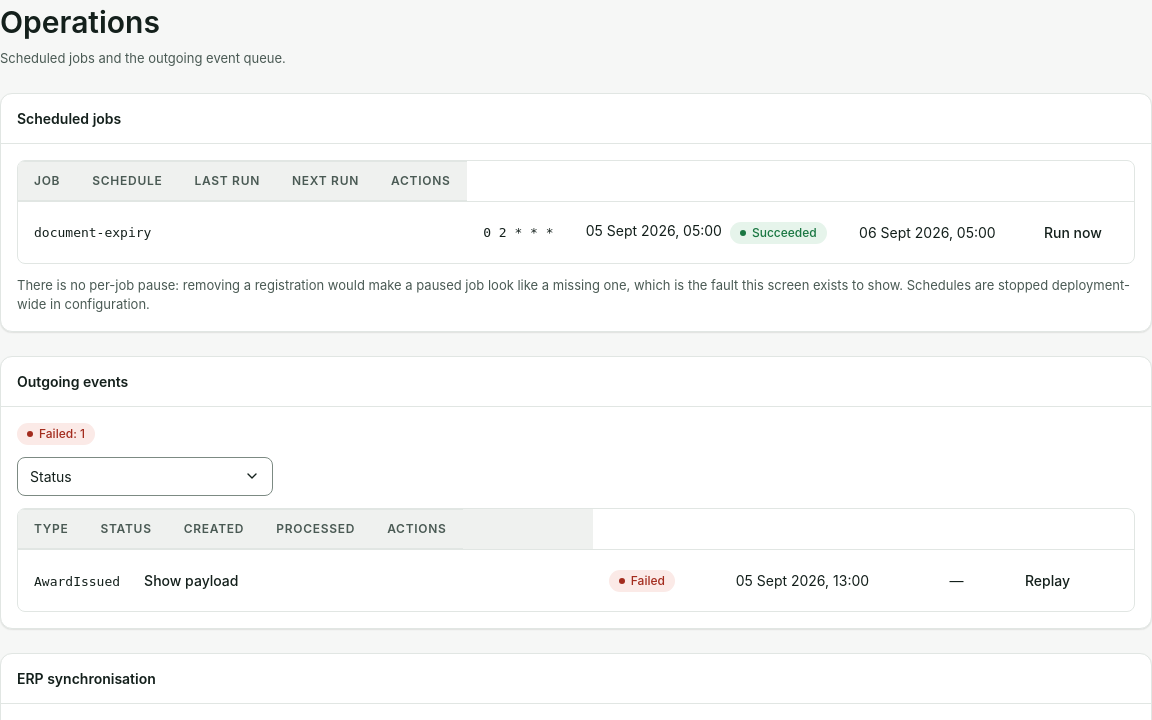
Test: OperationsPage (SCR-721) › confirms a queued replay
Click the button "Replay": (1048, 580) [1009,562,1086,598]
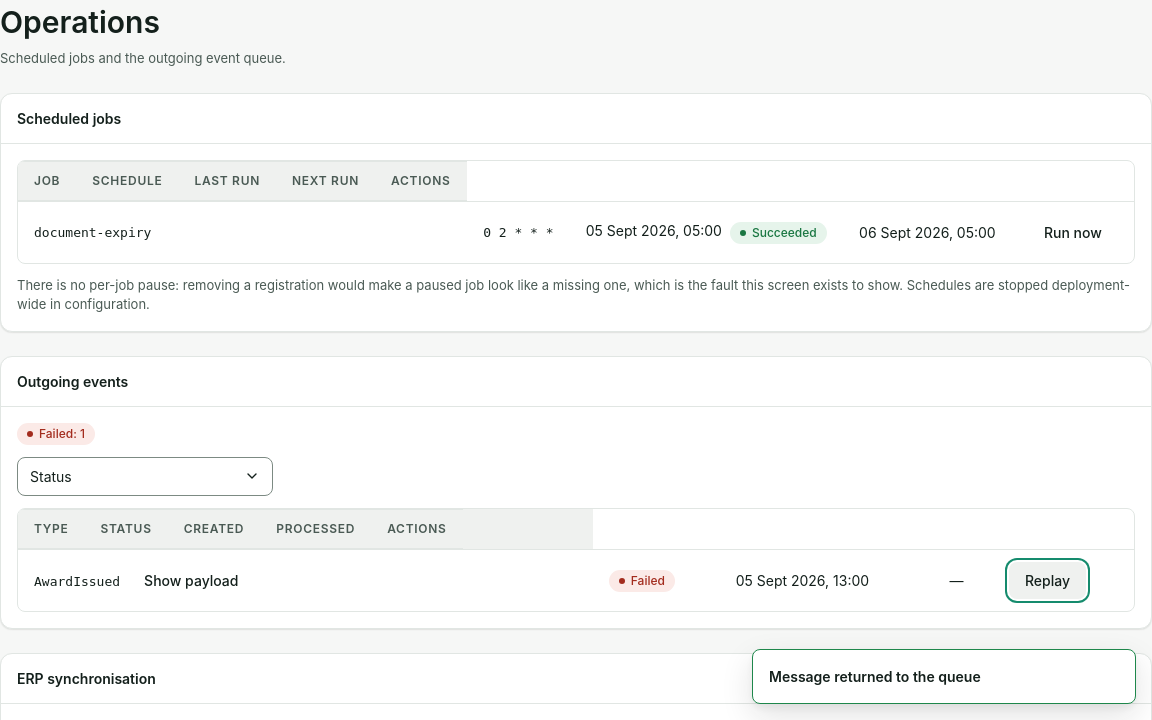
Expected: the text "Message returned to the queue" is shown, [769,668,981,685]
